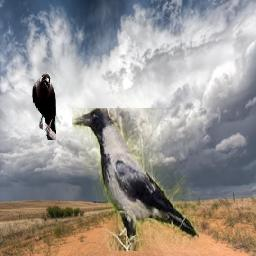Crow: (73, 109, 200, 252), (32, 72, 56, 140)
